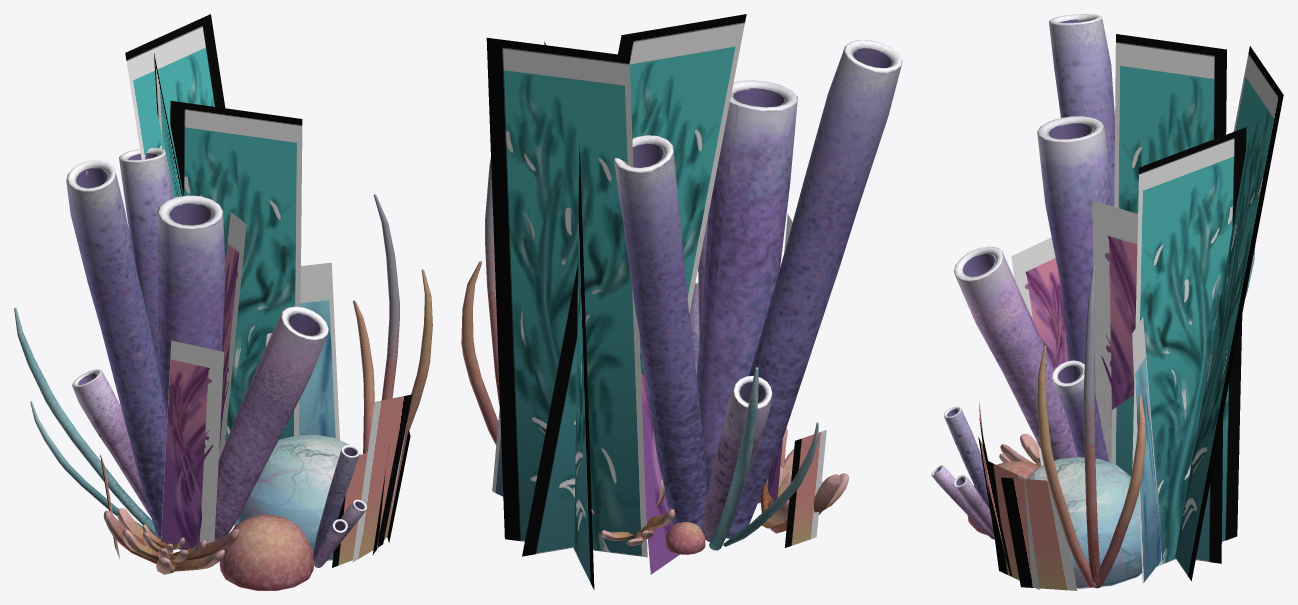
File: coral.obj
3 views of the same model, side by side, from view 1: azimuth 30°, elevation 25°; view 2: azimuth 150°, elevation 25°; view 3: azimuth 270°, elevation 25° (orthographic). The views are drawn at different scales.
Visible parts, largest first — view 1: polySurface267_Mesh.001, polySurface223_Mesh; view 2: polySurface223_Mesh, polySurface267_Mesh.001; view 3: polySurface223_Mesh, polySurface267_Mesh.001.
Part boxes in pixels (left/top/right/bottom): polySurface267_Mesh.001: left=14, top=148, right=432, bottom=590; polySurface223_Mesh: left=100, top=14, right=412, bottom=567; polySurface223_Mesh: left=486, top=14, right=826, bottom=589; polySurface267_Mesh.001: left=461, top=39, right=902, bottom=554; polySurface223_Mesh: left=978, top=34, right=1283, bottom=590; polySurface267_Mesh.001: left=931, top=14, right=1255, bottom=588.
Bounding box in the file's own units: 0.0309 × 0.0406 × 0.0264.
2 materials, 2 textured.
